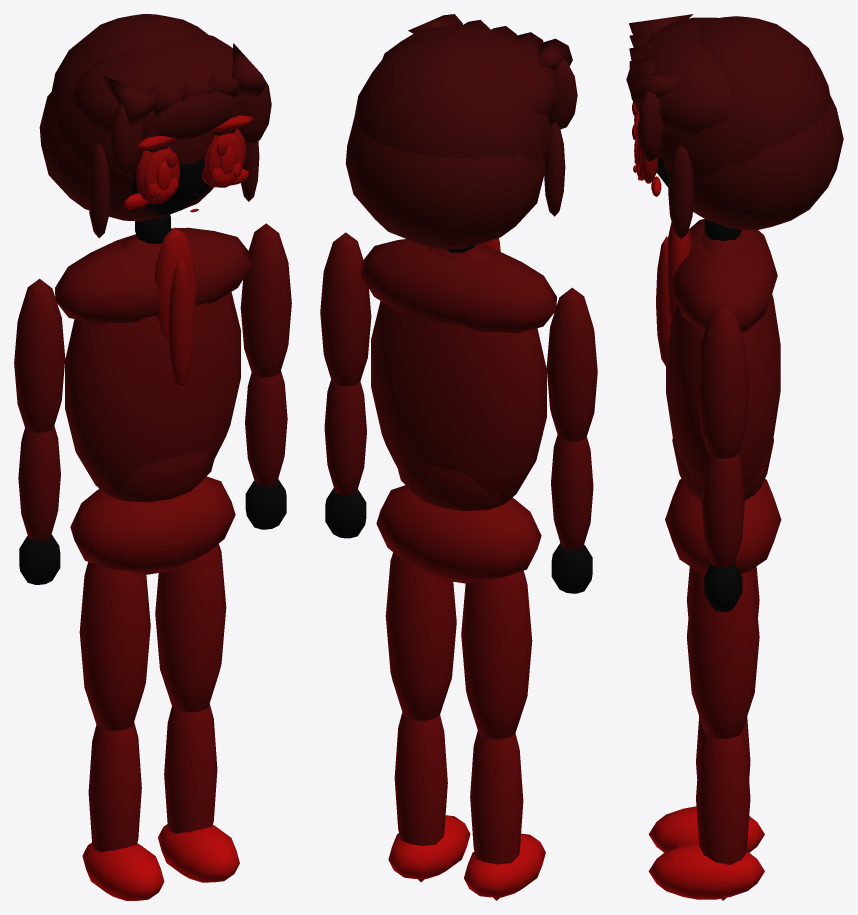
The model's file is boy_soft.glb.
3 views of the same model, side by side, from view 1: azimuth 30°, elevation 25°; view 2: azimuth 150°, elevation 25°; view 3: azimuth 270°, elevation 25° (orthographic).
Parts seen in each view (by area): view 1: body, legl, legr, arml, armr; view 2: body, legl, legr, arml, armr; view 3: body, legr, armr, legl.
Part boxes in pixels (x1=…): body: x1=39, y1=14, x2=271, y2=574; legl: x1=79, y1=562, x2=164, y2=900; legr: x1=155, y1=544, x2=239, y2=882; arml: x1=14, y1=278, x2=65, y2=584; armr: x1=240, y1=223, x2=291, y2=529; body: x1=345, y1=14, x2=577, y2=583; legl: x1=461, y1=570, x2=545, y2=900; legr: x1=385, y1=552, x2=470, y2=882; arml: x1=546, y1=287, x2=597, y2=593; armr: x1=320, y1=232, x2=371, y2=538; body: x1=626, y1=14, x2=843, y2=573; legr: x1=648, y1=570, x2=764, y2=900; armr: x1=697, y1=304, x2=749, y2=611; legl: x1=648, y1=566, x2=764, y2=852.
Size of the model in its own units: 0.857 by 2.6 by 0.5976.
